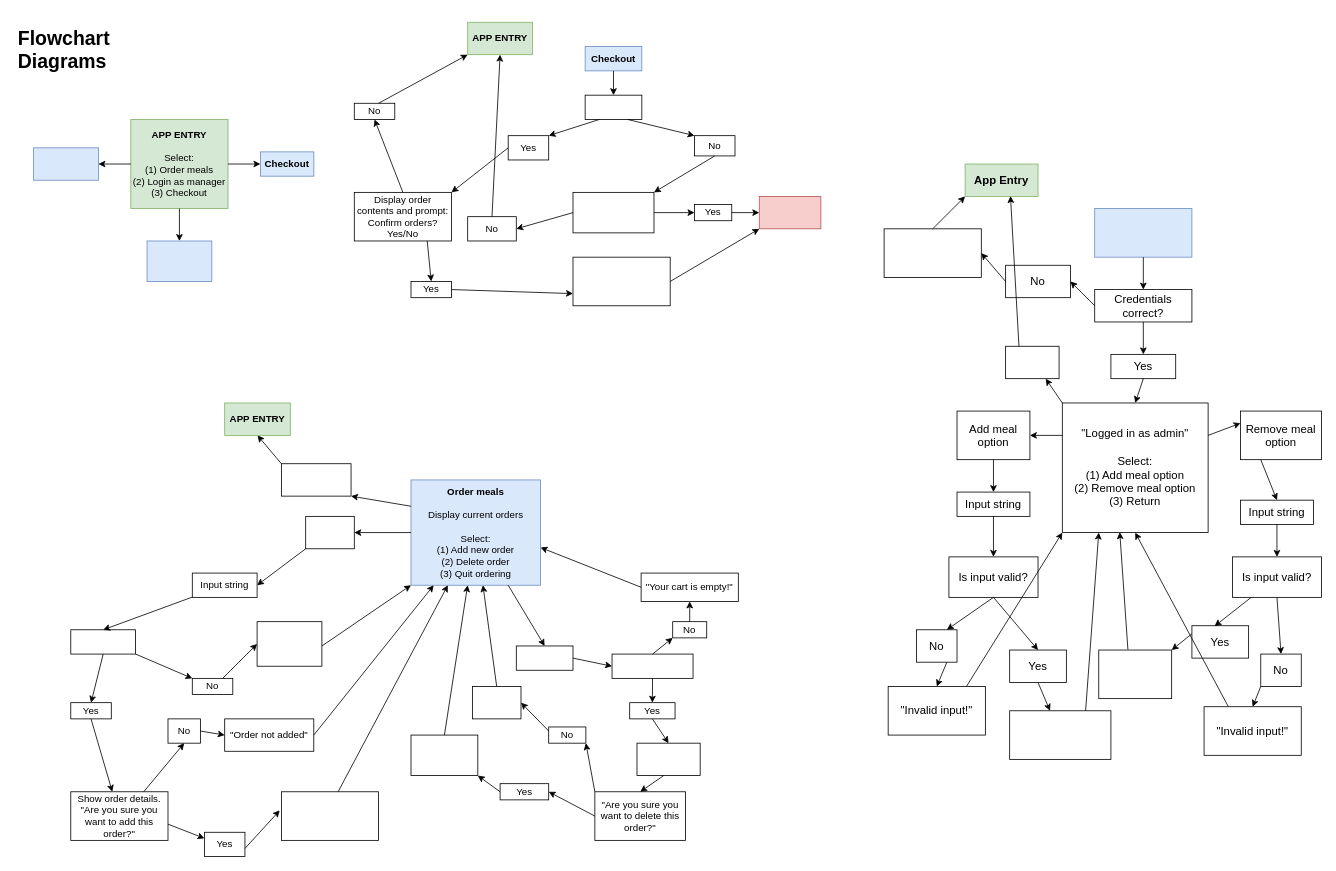
This 1336x871 diagram has some shape labels left out. The centre of each missing label's shape, as x and y in pixels:
"Incorrect credentials!": (x=932, y=252)
"Order not deleted": (x=496, y=702)
"Order successfully added!": (x=330, y=815)
"Order successfully deleted": (x=444, y=755)
"Successfully added meal option!": (x=1060, y=734)
"Successfully removed meal option!": (x=1135, y=674)
"YUM! Here's your meal(s)! Enjoy! :)": (x=621, y=281)
Add new order: (x=329, y=532)
Are there any orders?: (x=652, y=665)
Delete order: (x=544, y=657)
EXIT APP: (x=789, y=212)
Has orders?: (x=613, y=106)
Is valid input?: (x=103, y=641)
Login as Admin: (x=179, y=260)
Login as Admin Enter credentials: (x=1143, y=232)
Order meals: (x=65, y=163)
Output error message(s): (x=289, y=643)
Prompt: Exit app? Yes/No: (x=613, y=212)
Quit ordering: (x=316, y=479)
Return: (x=1032, y=362)
Select order to delete: (x=668, y=759)
